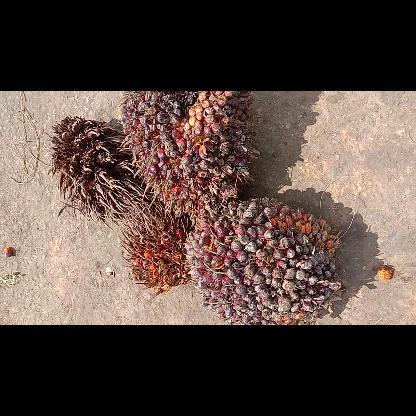Janjang kosong: (47, 113, 151, 226)
Kurang masak: (184, 198, 348, 324)
TBS masak: (117, 92, 263, 218)
Terlalu masak: (117, 205, 195, 295)
